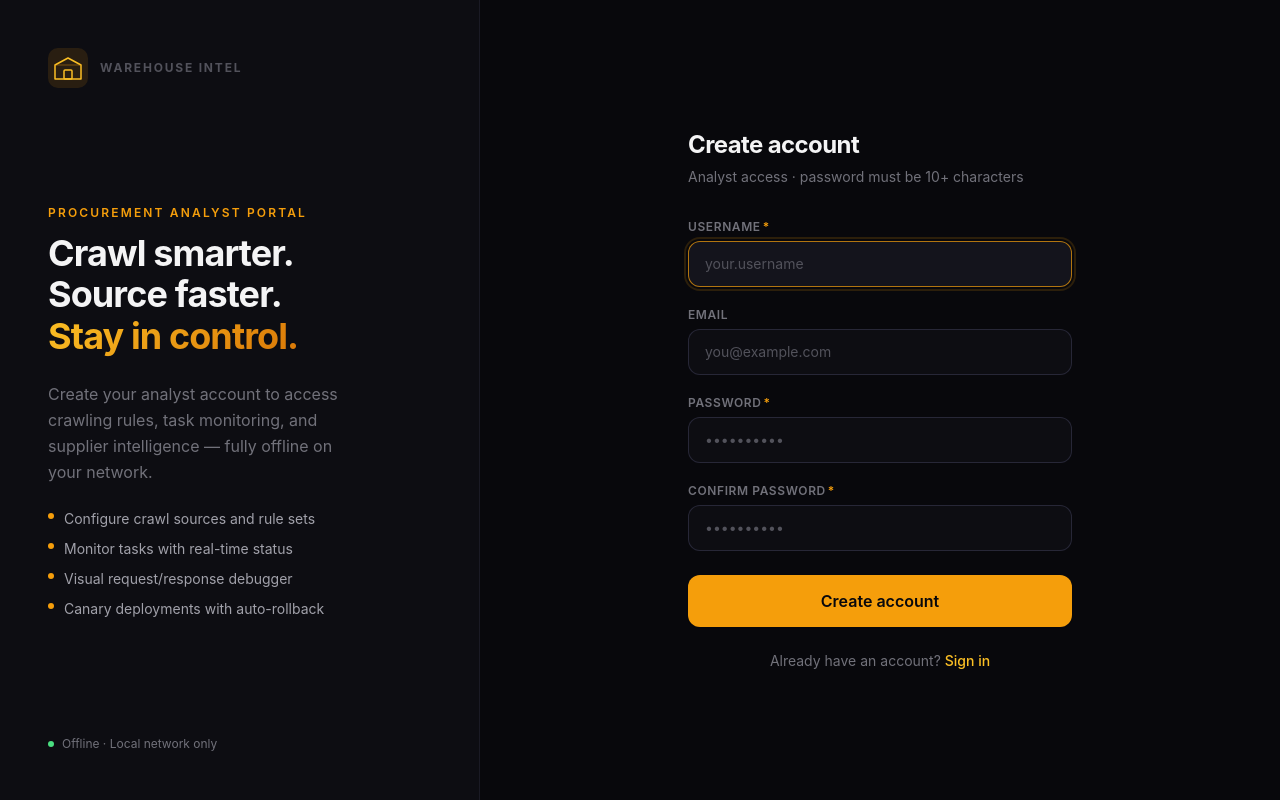
Test case: RegisterPage — API interaction › shows API error message on failure
In the field labelled "Username*": [880, 264] box x1=688 y1=241 x2=1072 y2=287, type "newanalyst"
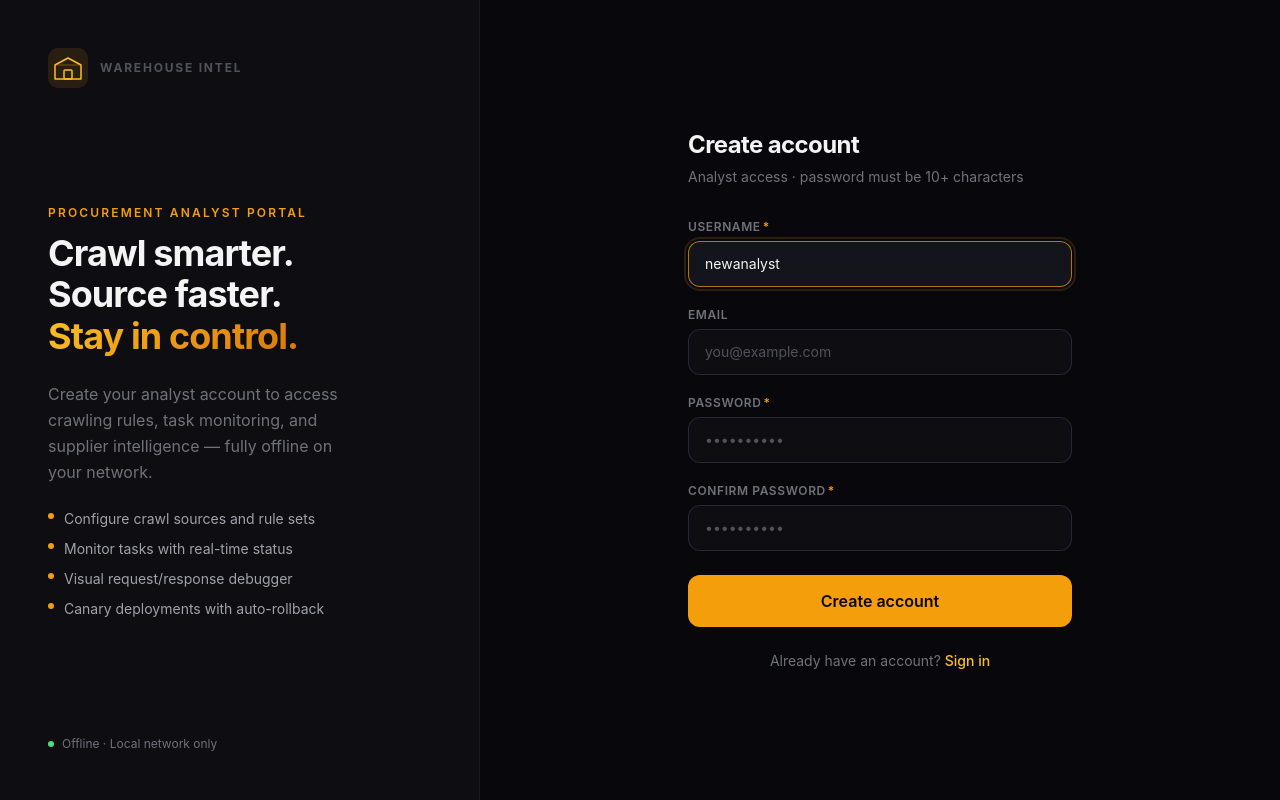
In the password field labelled "Password*": [880, 440] box x1=688 y1=417 x2=1072 y2=463, type "Str0ng!Pass1"
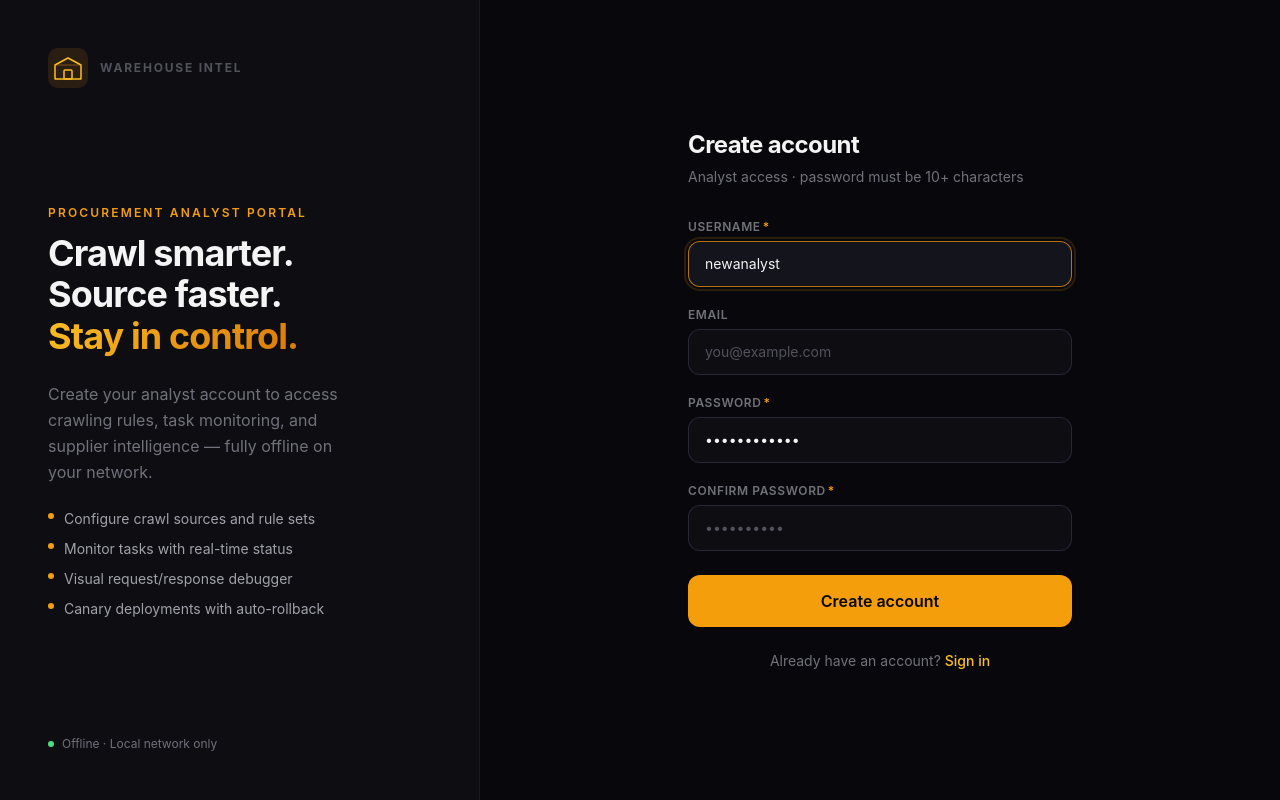
In the password field labelled "Confirm Password*": [880, 528] box x1=688 y1=505 x2=1072 y2=551, type "Str0ng!Pass1"
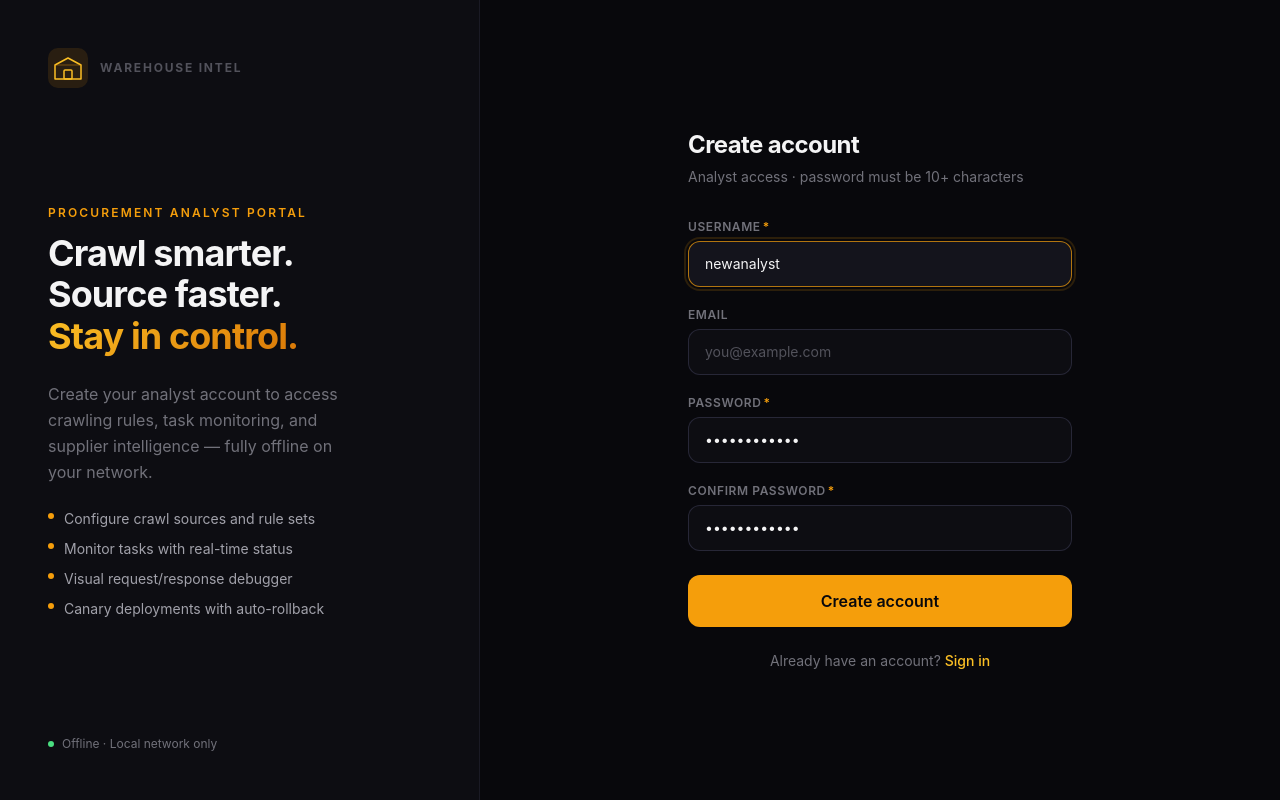
Submit the form "Username* Email Password* Confirm Password* Create account", box x1=688 y1=219 x2=1072 y2=627
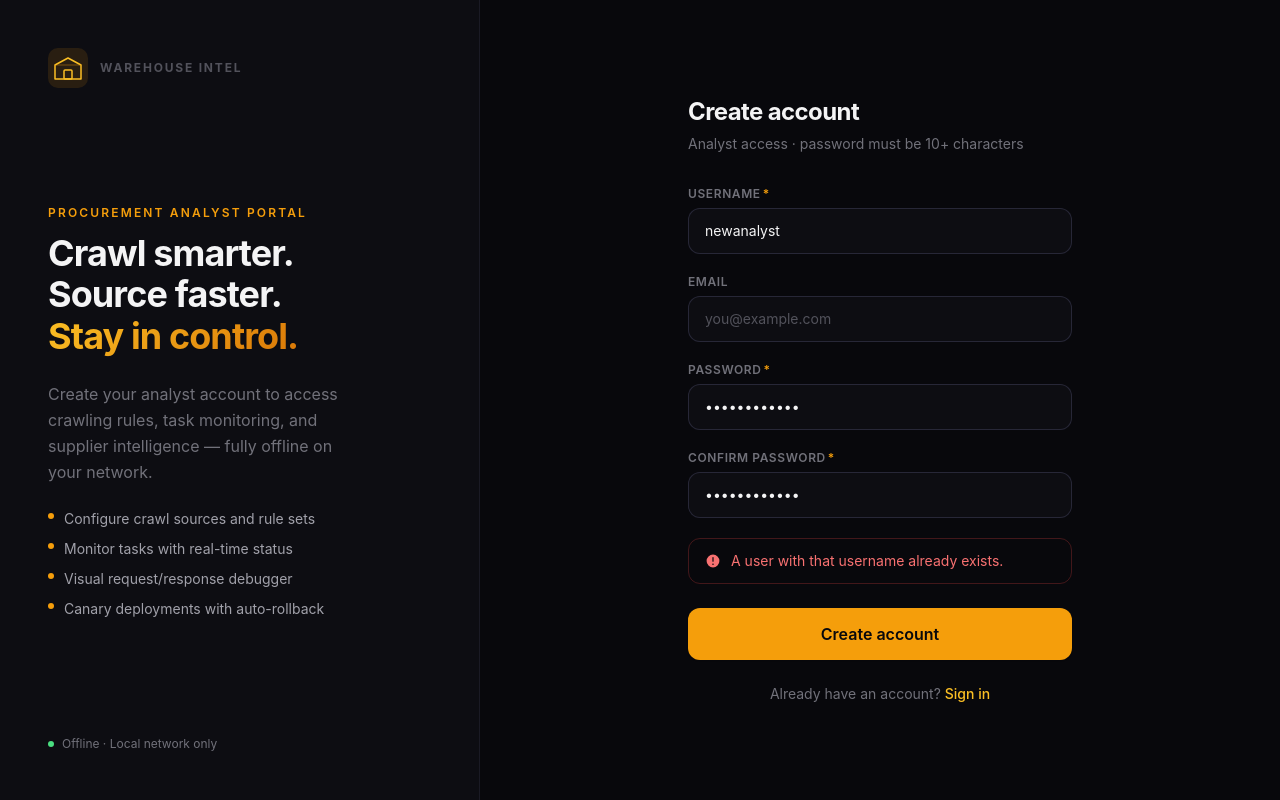
Check: the text "A user with that username already exists." is shown, box x1=731 y1=551 x2=1003 y2=571
